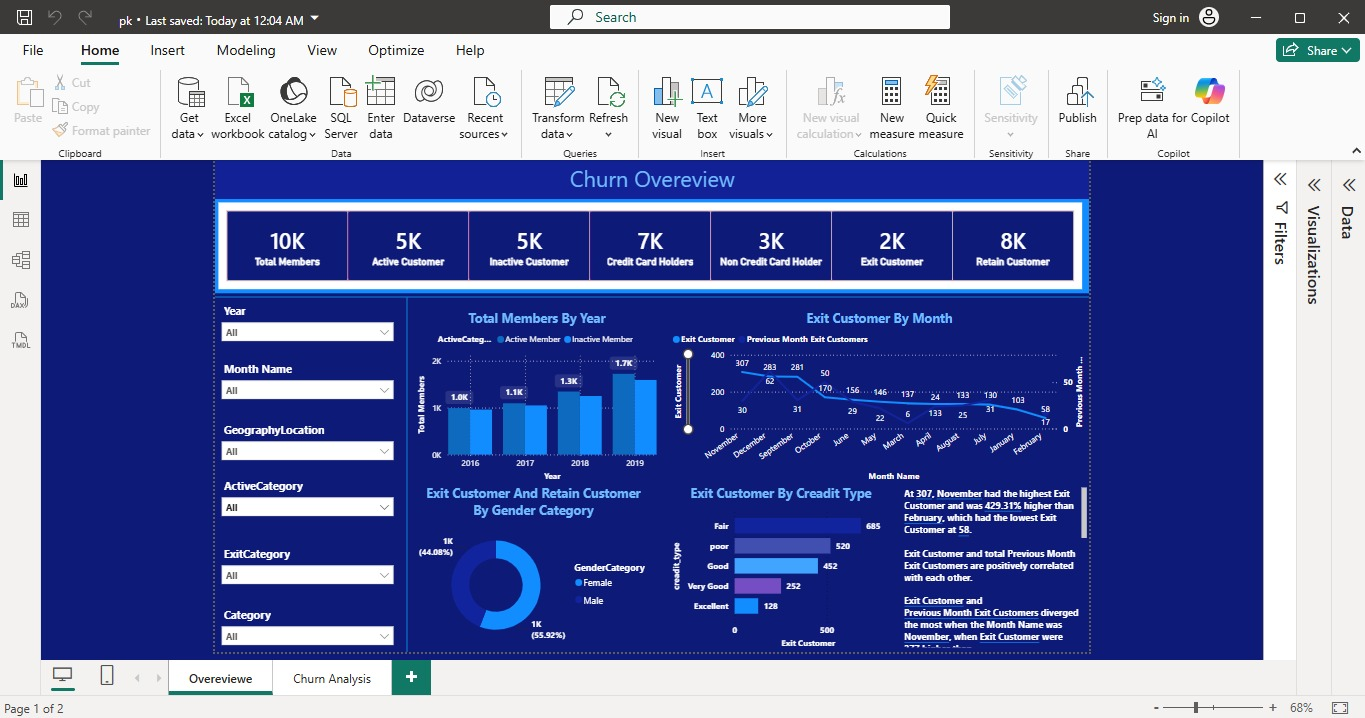

What the dashboard file says about the page in this screenshot:
{"tool":"powerbi","page":{"name":"Overeviewe","canvas":[1280,720],"ordinal":0},"visuals":[{"type":"textbox","box":[0,0,1280,67.2],"z":0},{"type":"shape","box":[0,125.9,1280.5,149.3],"z":1000},{"type":"shape","box":[10.2,200.5,541.5,519.5],"z":2000},{"type":"slicer","fields":{"Values":["calender Table.Year"]},"box":[0,204.9,270.7,70.2],"z":3000},{"type":"slicer","fields":{"Values":["Location.GeographyLocation"]},"box":[0,379,270.7,62.9],"z":4000},{"type":"slicer","fields":{"Values":["calender Table.Month Name"]},"box":[0,289.8,270.7,70.2],"z":5000},{"type":"slicer","fields":{"Values":["Active Customer.ActiveCategory"]},"box":[0,461,270.7,73.2],"z":6000},{"type":"slicer","fields":{"Values":["Exit Category.ExitCategory"]},"box":[0,560.5,270.7,71.7],"z":7000},{"type":"slicer","fields":{"Values":["Creditcard Category.Category"]},"box":[0,649.8,270.7,70.2],"z":8000},{"type":"clusteredColumnChart","title":"Total Members By Year ","fields":{"Category":["calender Table.Year"],"Y":["Active Customer.Total Members"],"Series":["Active Customer.ActiveCategory"]},"box":[291.2,218,360,256.1],"z":9000},{"type":"cardVisual","fields":{"Data":["Active Customer.Total Members","Active Customer.Active Customer","Active Customer.Inactive Customer","Active Customer.Credit Card Holders","Active Customer.Non Cedit Card Holder","Active Customer.Exit Customer","Active Customer.Retain Customer"]},"box":[0,57.1,1280.5,137.6],"z":10000},{"type":"lineChart","title":" Exit Customer By Month","fields":{"Y":["Active Customer.Exit Customer"],"Y2":["Active Customer.Previous Month Exit Customers"],"Category":["calender Table.Month Name"]},"box":[641,218,639.5,256.1],"z":11000},{"type":"donutChart","title":"Exit Customer And Retain Customer By Gender Category","fields":{"Y":["Active Customer.Exit Customer"],"Category":["Gender Category.GenderCategory"]},"box":[291.2,474.1,349.8,245.9],"z":12000},{"type":"clusteredBarChart","title":"Exit Customer By Creadit Type","fields":{"Y":["Active Customer.Exit Customer"],"Category":["Bank_Churn.creadit_type"]},"box":[664.4,474.1,327.8,244.4],"z":13000},{"type":"textbox","box":[992,474,288,244],"z":14000}]}

Visuals, with their boxes on the page's 1280x720 design canvas (x1, y1, x2, y2). These are canvas units, not pixel positions in the 1365x718 screenshot, which may show the page scaled, cropped or inside an application window:
textbox: {"x1": 0, "y1": 0, "x2": 1280, "y2": 67}
shape: {"x1": 0, "y1": 126, "x2": 1280, "y2": 275}
shape: {"x1": 10, "y1": 200, "x2": 552, "y2": 720}
slicer - calender Table.Year: {"x1": 0, "y1": 205, "x2": 271, "y2": 275}
slicer - Location.GeographyLocation: {"x1": 0, "y1": 379, "x2": 271, "y2": 442}
slicer - calender Table.Month Name: {"x1": 0, "y1": 290, "x2": 271, "y2": 360}
slicer - Active Customer.ActiveCategory: {"x1": 0, "y1": 461, "x2": 271, "y2": 534}
slicer - Exit Category.ExitCategory: {"x1": 0, "y1": 560, "x2": 271, "y2": 632}
slicer - Creditcard Category.Category: {"x1": 0, "y1": 650, "x2": 271, "y2": 720}
"Total Members By Year " clusteredColumnChart: {"x1": 291, "y1": 218, "x2": 651, "y2": 474}
cardVisual - Active Customer.Total Members x Active Customer.Active Customer: {"x1": 0, "y1": 57, "x2": 1280, "y2": 195}
" Exit Customer By Month" lineChart: {"x1": 641, "y1": 218, "x2": 1280, "y2": 474}
"Exit Customer And Retain Customer By Gender Category" donutChart: {"x1": 291, "y1": 474, "x2": 641, "y2": 720}
"Exit Customer By Creadit Type" clusteredBarChart: {"x1": 664, "y1": 474, "x2": 992, "y2": 718}
textbox: {"x1": 992, "y1": 474, "x2": 1280, "y2": 718}
